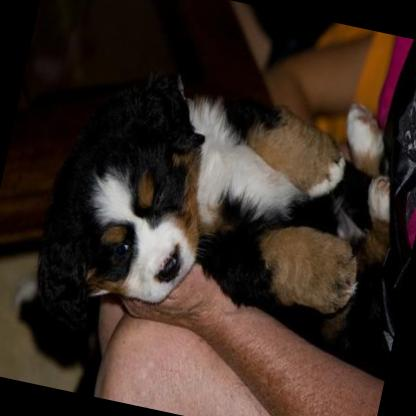Bernese_mountain_dog: (9, 37, 416, 392)
